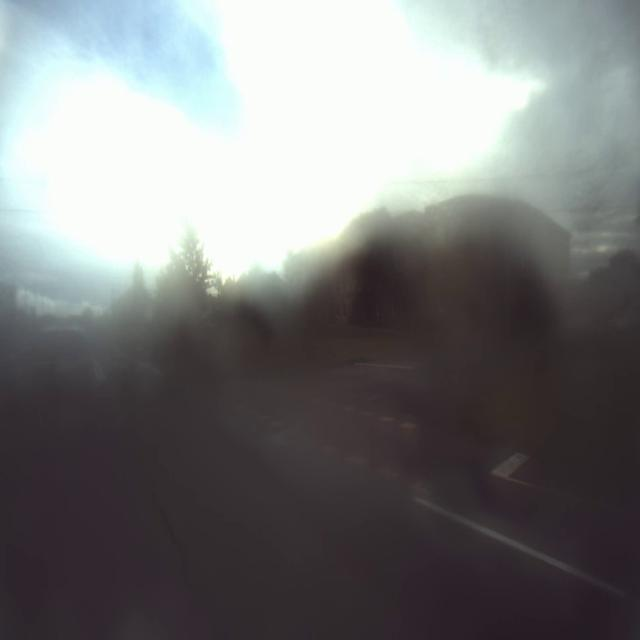car: (26, 314, 94, 403)
